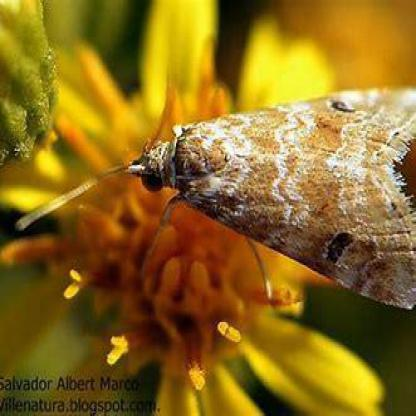Hellula undalis: (9, 76, 414, 315)
